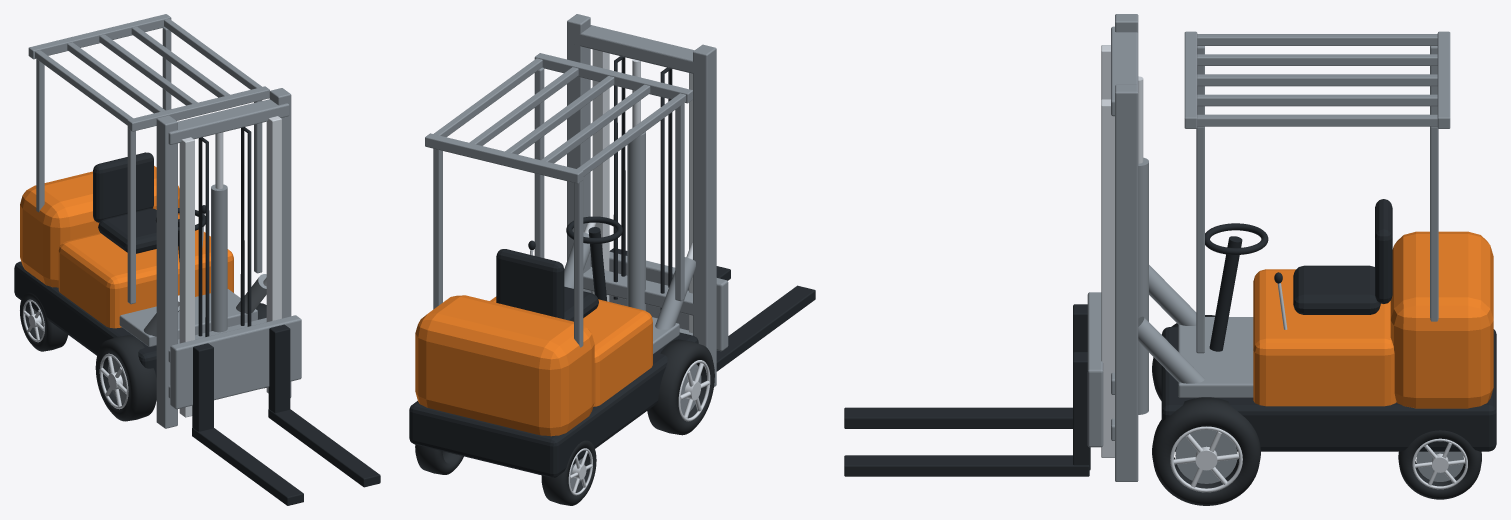
File: explosion-proof-forklift.v2.glb
The picture shows the model from 3 angles, left to right: view 1: azimuth 30°, elevation 25°; view 2: azimuth 150°, elevation 25°; view 3: azimuth 270°, elevation 25°; orthographic projection. The views are drawn at different scales.
Parts seen in each view (by area): view 1: Battery compartment, Carriage, Outer mast, Counterweight, Chassis, Inner mast, Inner mast.001, Drive wheel_tire, Seat back, Lift cylinder, Fork blade.001, Fork blade (+22 smaller); view 2: Counterweight, Chassis, Outer mast, Battery compartment, Seat back, Drive wheel_tire, Outer mast.001, Lift cylinder, Mast crossmember.002, Inner mast.001, Fork blade, Overhead guard rail.001 (+23 smaller); view 3: Counterweight, Battery compartment, Chassis, Outer mast.001, Drive wheel_tire.001, Fork blade.001, Fork blade, Foot platform, Inner mast.001, Seat cushion, Overhead guard slat.003, Overhead guard slat.002 (+21 smaller).
Part boxes in pixels (x1,y1,x2,y2): Battery compartment: (58, 215, 233, 328); Carriage: (170, 315, 301, 409); Outer mast: (156, 115, 177, 428); Counterweight: (20, 166, 179, 287); Chassis: (14, 261, 156, 375); Inner mast: (179, 137, 194, 417); Inner mast.001: (266, 116, 281, 393); Drive wheel_tire: (95, 335, 156, 421); Seat back: (93, 152, 153, 222); Lift cylinder: (211, 184, 227, 332); Fork blade.001: (268, 409, 380, 487); Fork blade: (192, 427, 303, 505); Counterweight: (415, 295, 594, 436); Chassis: (409, 332, 698, 477); Outer mast: (693, 44, 716, 386); Battery compartment: (490, 296, 652, 406); Seat back: (496, 249, 564, 319); Drive wheel_tire: (647, 339, 714, 435); Outer mast.001: (567, 14, 590, 292); Lift cylinder: (627, 129, 645, 310); Mast crossmember.002: (571, 25, 701, 74); Inner mast.001: (592, 49, 609, 301); Fork blade: (716, 285, 815, 371); Overhead guard rail.001: (425, 133, 583, 183); Counterweight: (1390, 231, 1493, 408); Battery compartment: (1253, 269, 1396, 406); Chassis: (1161, 327, 1496, 451); Outer mast.001: (1115, 84, 1138, 481); Drive wheel_tire.001: (1152, 397, 1260, 505); Fork blade.001: (844, 455, 1089, 476); Fork blade: (844, 407, 1072, 428); Foot platform: (1178, 317, 1253, 397); Inner mast.001: (1101, 99, 1114, 457); Seat cushion: (1293, 265, 1380, 314); Overhead guard slat.003: (1197, 94, 1437, 106); Overhead guard slat.002: (1197, 74, 1437, 86).
Bounding box in the file's own units: 1.22 × 2.31 × 3.35.
